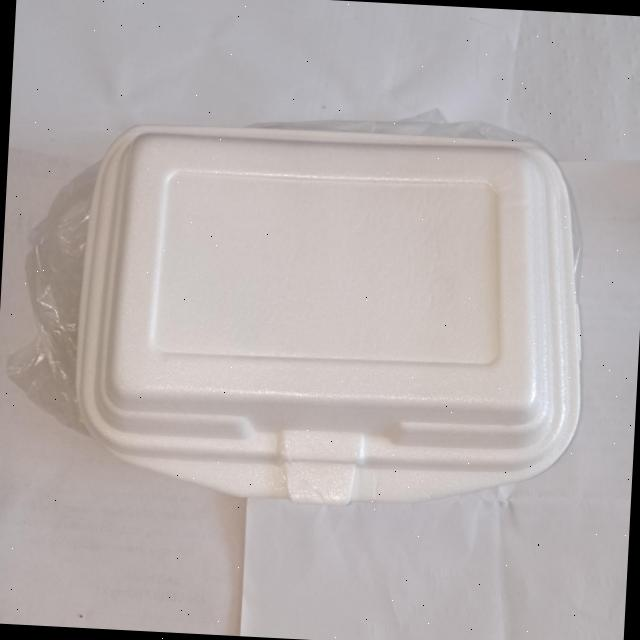styrofoam: (67, 108, 596, 520)
